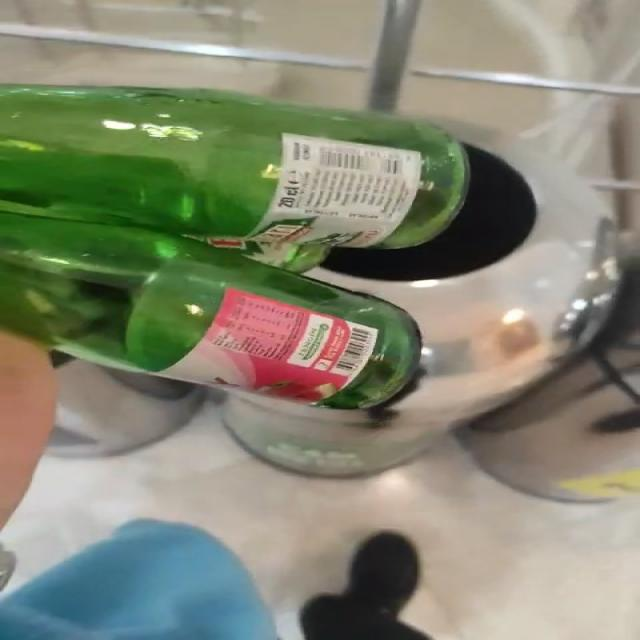glass: (0, 84, 468, 409)
